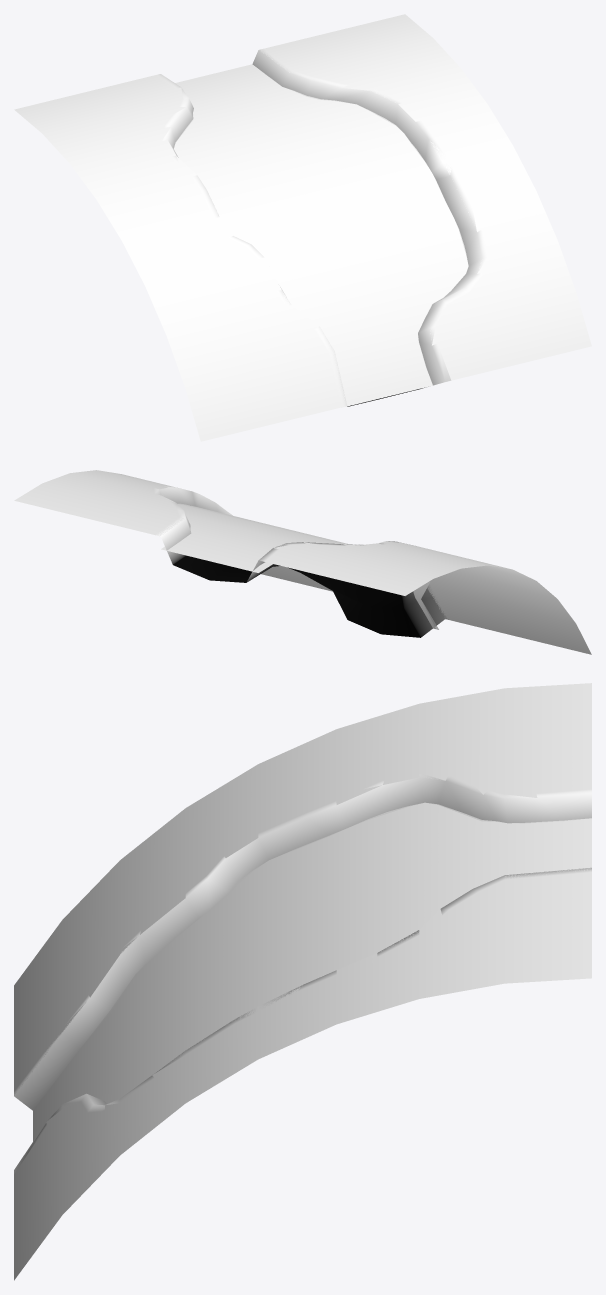
File: grd_Rs_P_0.dae
3 renders of one model, top to bottom at view 1: azimuth 30°, elevation 25°; view 2: azimuth 150°, elevation 25°; view 3: azimuth 270°, elevation 25°, orthographic. The views are drawn at different scales.
Parts seen in each view (by area): view 1: grass_1_0, river_2_0, cliff_river_0_0, river_rdge_3_0; view 2: grass_1_0, cliff_river_0_0, river_2_0, river_rdge_3_0; view 3: grass_1_0, river_2_0, cliff_river_0_0, river_rdge_3_0.
Part boxes in pixels (x1,y1,x2,y2): grass_1_0: (14,14,591,441); river_2_0: (174,64,467,406); cliff_river_0_0: (155,48,488,407); river_rdge_3_0: (174,64,468,407); grass_1_0: (14,470,591,654); cliff_river_0_0: (153,486,448,637); river_2_0: (161,504,435,628); river_rdge_3_0: (161,503,438,629); grass_1_0: (14,683,591,1280); river_2_0: (33,803,591,1141); cliff_river_0_0: (14,773,591,1174); river_rdge_3_0: (64,802,591,1103).
Size of the model in its own units: 512 by 264 by 423.
4 materials, 1 textured.
